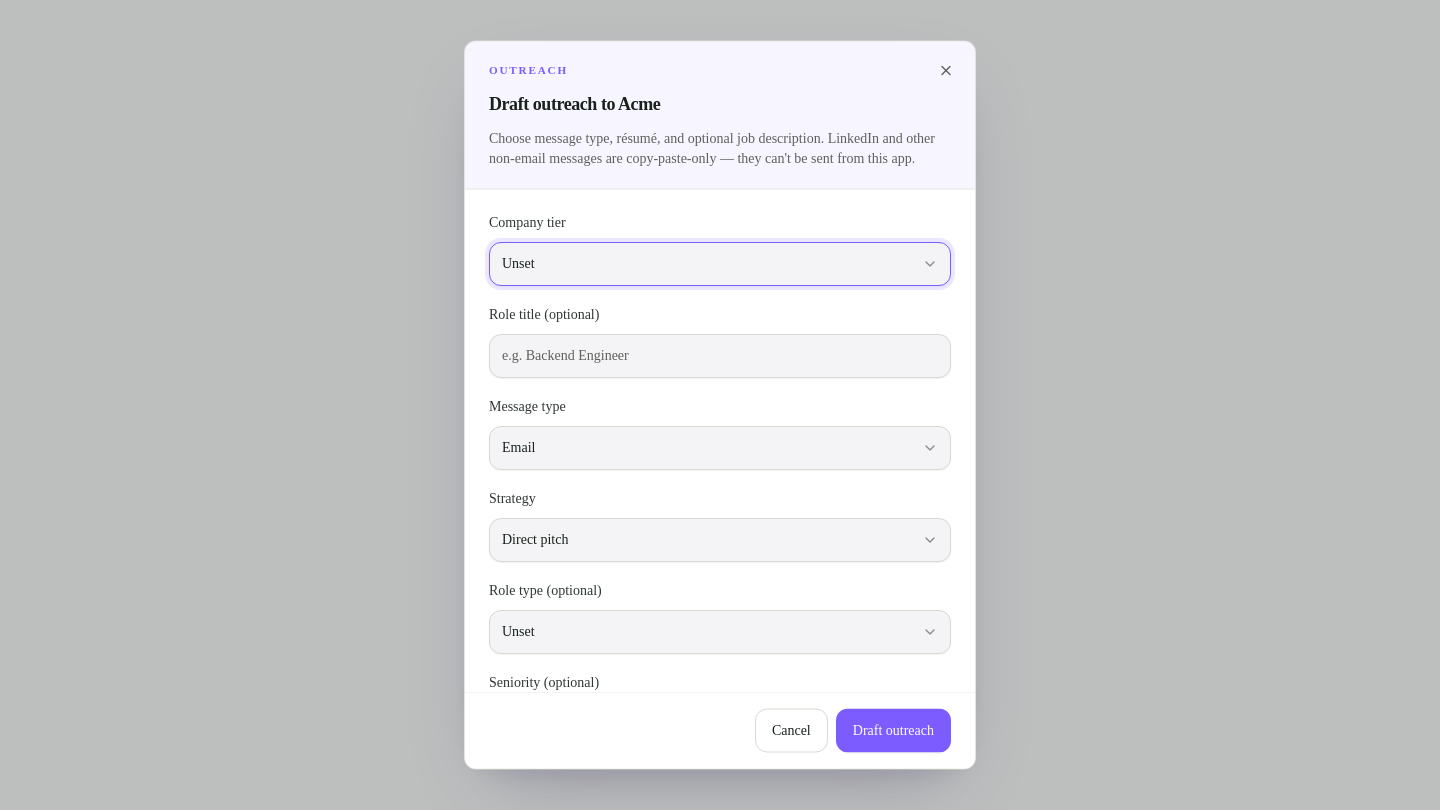
DraftOutreachDialog › renders the custom-instruction textarea only when "Custom" is selected
Click the dropdown named "Message type" at (519, 447), box x1=489 y1=425 x2=951 y2=469
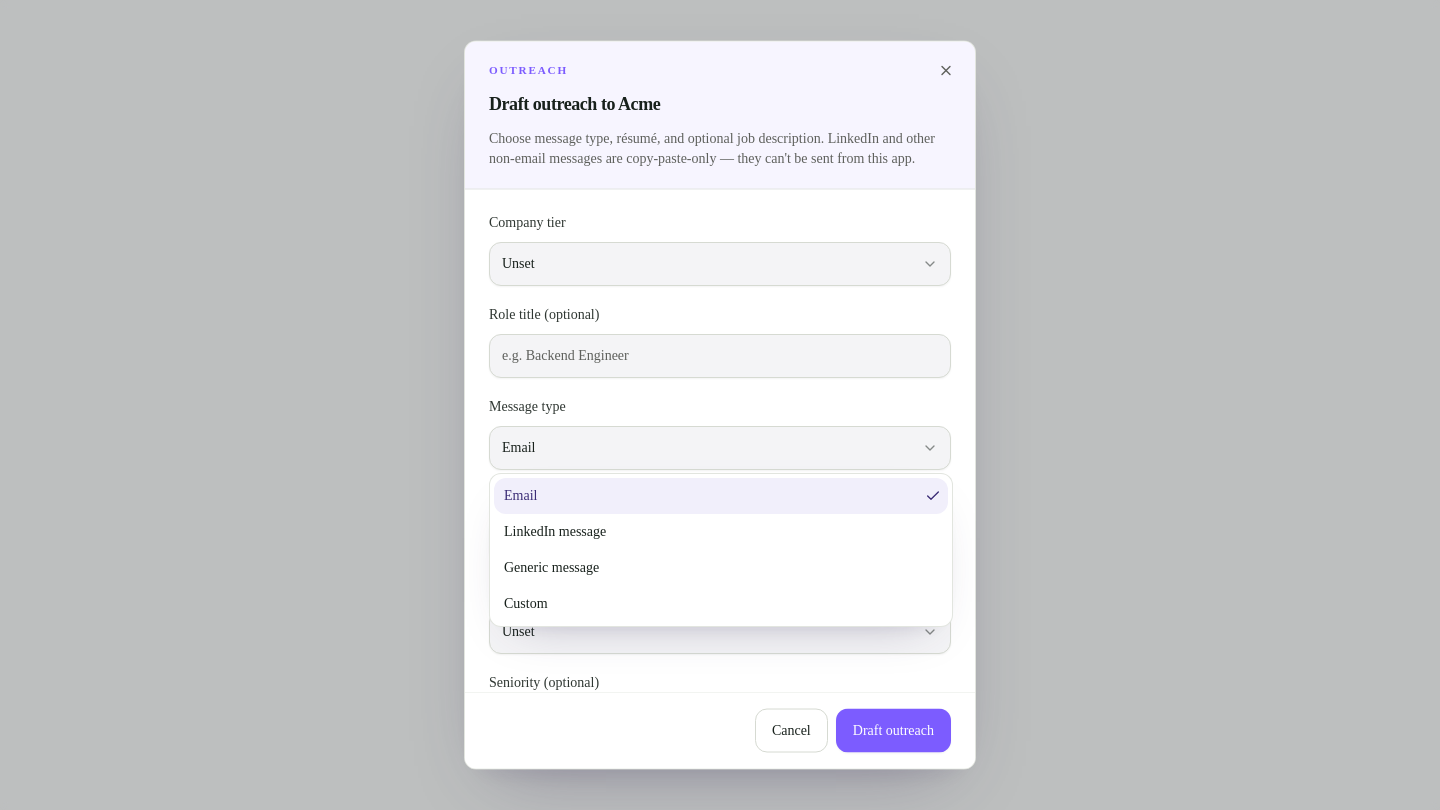
Click the option "Custom" at (526, 604), box x1=504 y1=596 x2=548 y2=611
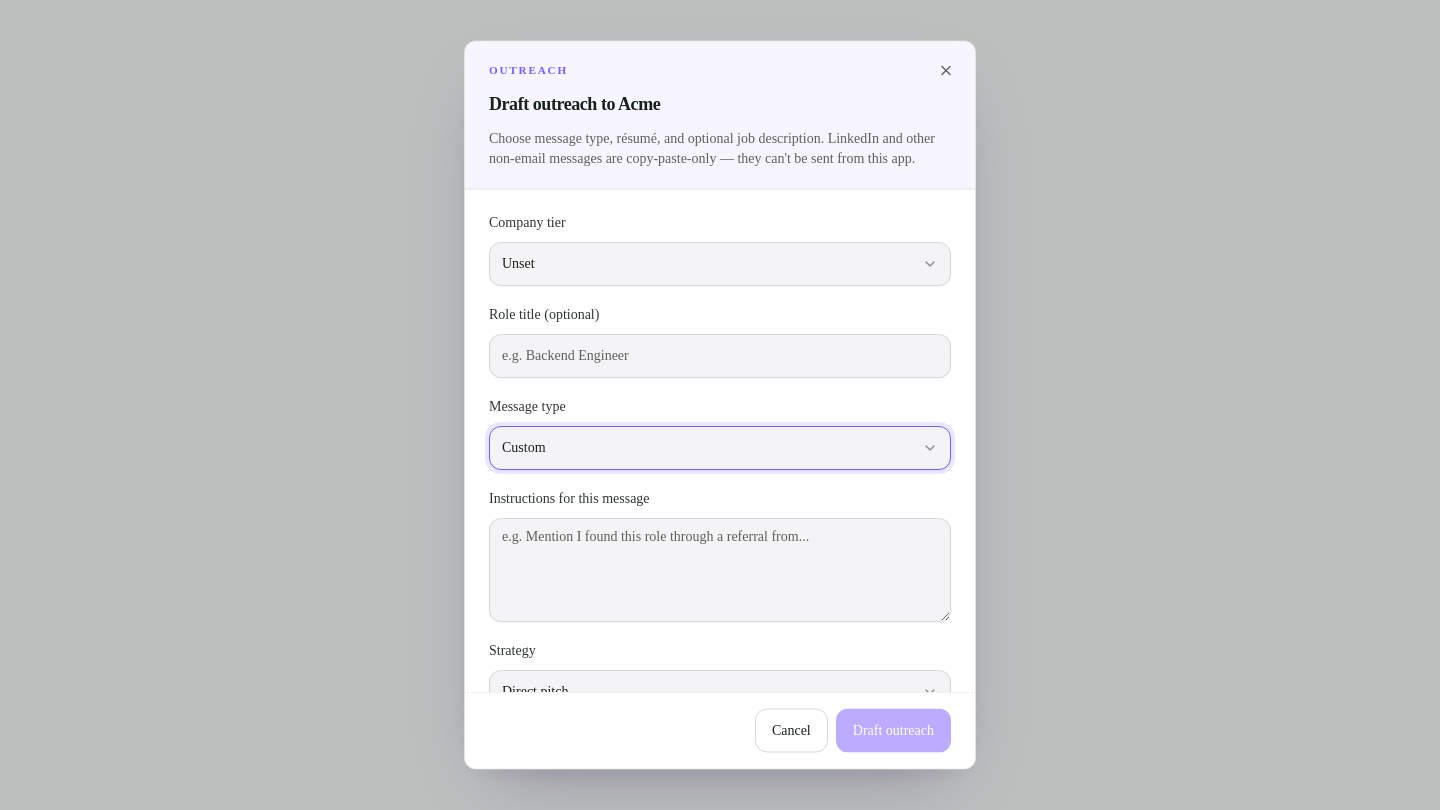
Result: the text box labelled "Instructions for this message" is shown at x1=489 y1=517 x2=951 y2=621
